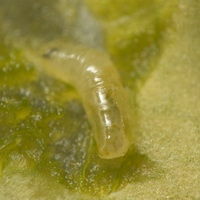insect: (24, 41, 131, 158)
